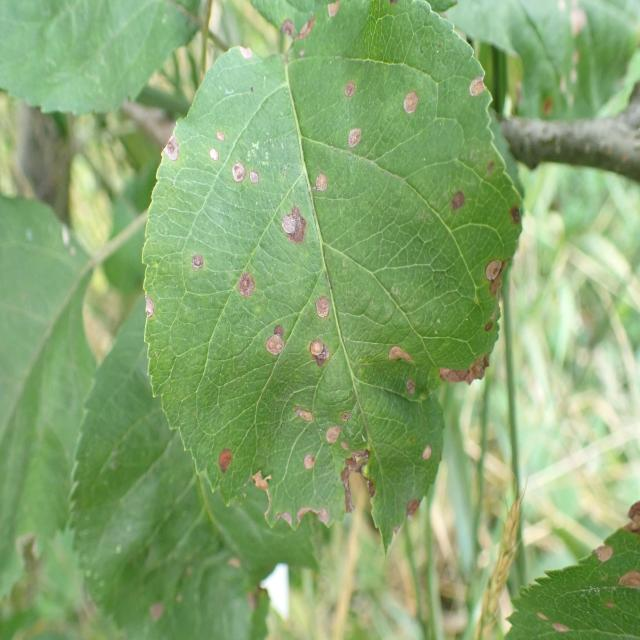Black Rot: (245, 461, 293, 541), (342, 450, 383, 530), (280, 5, 328, 53), (289, 498, 339, 542), (278, 184, 306, 252), (256, 314, 292, 366), (301, 333, 344, 376), (152, 127, 194, 171), (320, 403, 351, 458), (483, 252, 507, 320), (462, 64, 492, 118), (530, 598, 568, 640), (177, 240, 210, 284), (401, 76, 423, 138), (414, 430, 446, 472), (342, 120, 366, 175), (306, 282, 337, 322), (385, 335, 413, 378), (399, 491, 428, 532), (212, 444, 236, 492), (399, 371, 425, 415), (231, 262, 256, 307), (615, 567, 640, 611), (308, 169, 342, 201), (232, 148, 250, 208), (618, 493, 640, 542), (294, 441, 323, 477), (319, 0, 344, 41), (584, 534, 614, 568), (206, 125, 228, 168), (130, 292, 165, 319), (442, 186, 466, 224), (292, 405, 322, 430), (338, 77, 364, 100), (239, 41, 256, 74), (248, 160, 262, 197)
